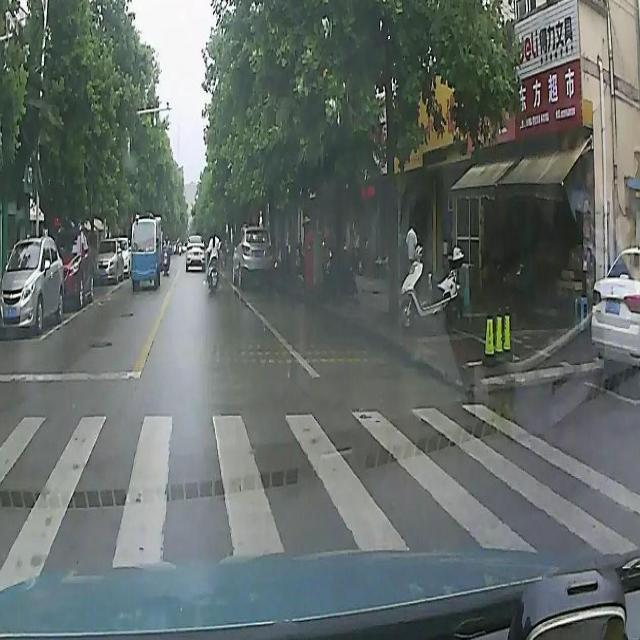car: (2, 232, 62, 338), (56, 224, 96, 302), (230, 227, 270, 284), (132, 212, 160, 286), (184, 233, 210, 273)
